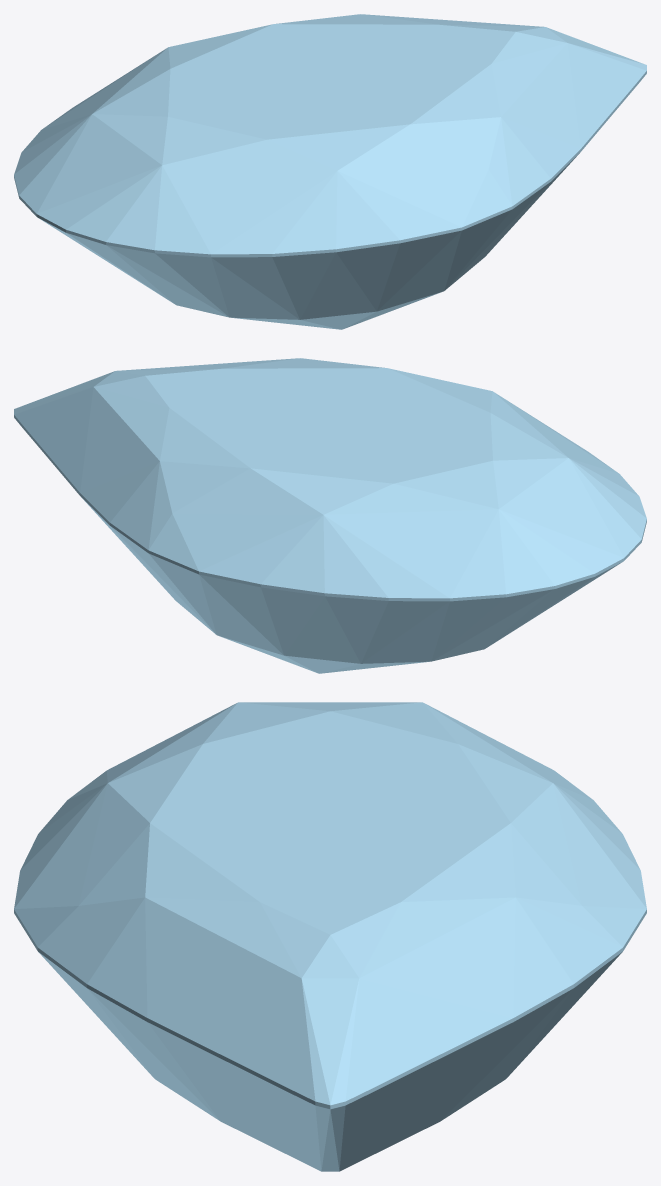
Rendered from jewelry.glb.
3 views of the same model, one above another, from view 1: azimuth 30°, elevation 25°; view 2: azimuth 150°, elevation 25°; view 3: azimuth 270°, elevation 25° (orthographic). The views are drawn at different scales.
Visible parts, largest first — view 1: Gemstone Topaz; view 2: Gemstone Topaz; view 3: Gemstone Topaz.
Boxes of the visible parts, x1,y1,x2,y2 form: Gemstone Topaz: (14, 14, 646, 329); Gemstone Topaz: (14, 358, 646, 673); Gemstone Topaz: (14, 702, 646, 1171).
Bounding box in the file's own units: 2.2 × 0.8805 × 1.5.
